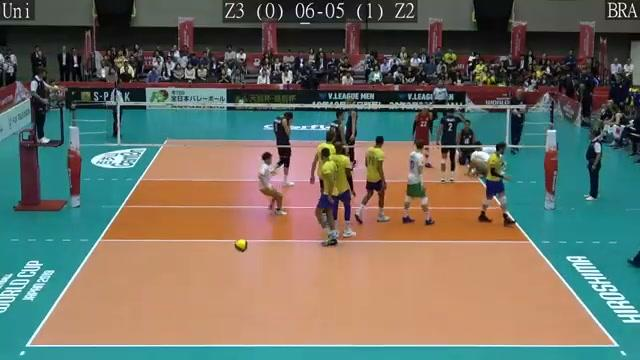ball: (229, 234, 251, 254)
